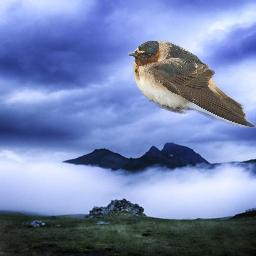Swallow: (128, 40, 256, 128)
